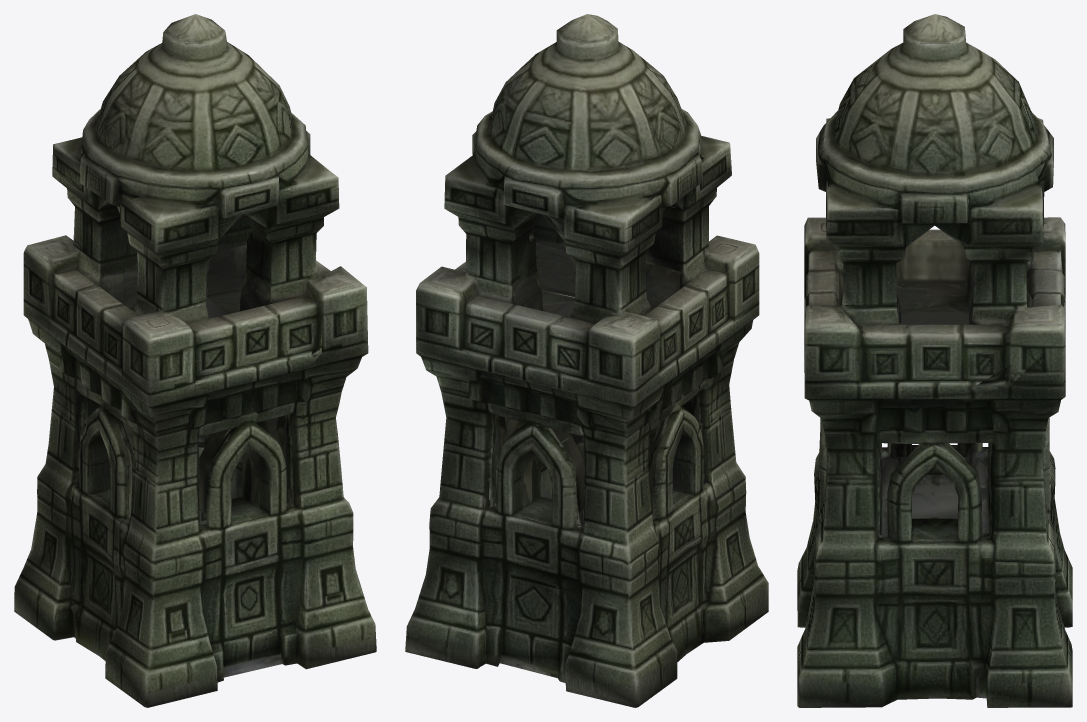
Rendered from Stone_Wat-web.glb.
The picture shows the model from 3 angles, left to right: view 1: azimuth 30°, elevation 25°; view 2: azimuth 150°, elevation 25°; view 3: azimuth 270°, elevation 25°; orthographic projection. The views are drawn at different scales.
Size of the model in its own units: 0.7885 by 2.01 by 0.7888.
Materials: 1 (1 with a texture image).
